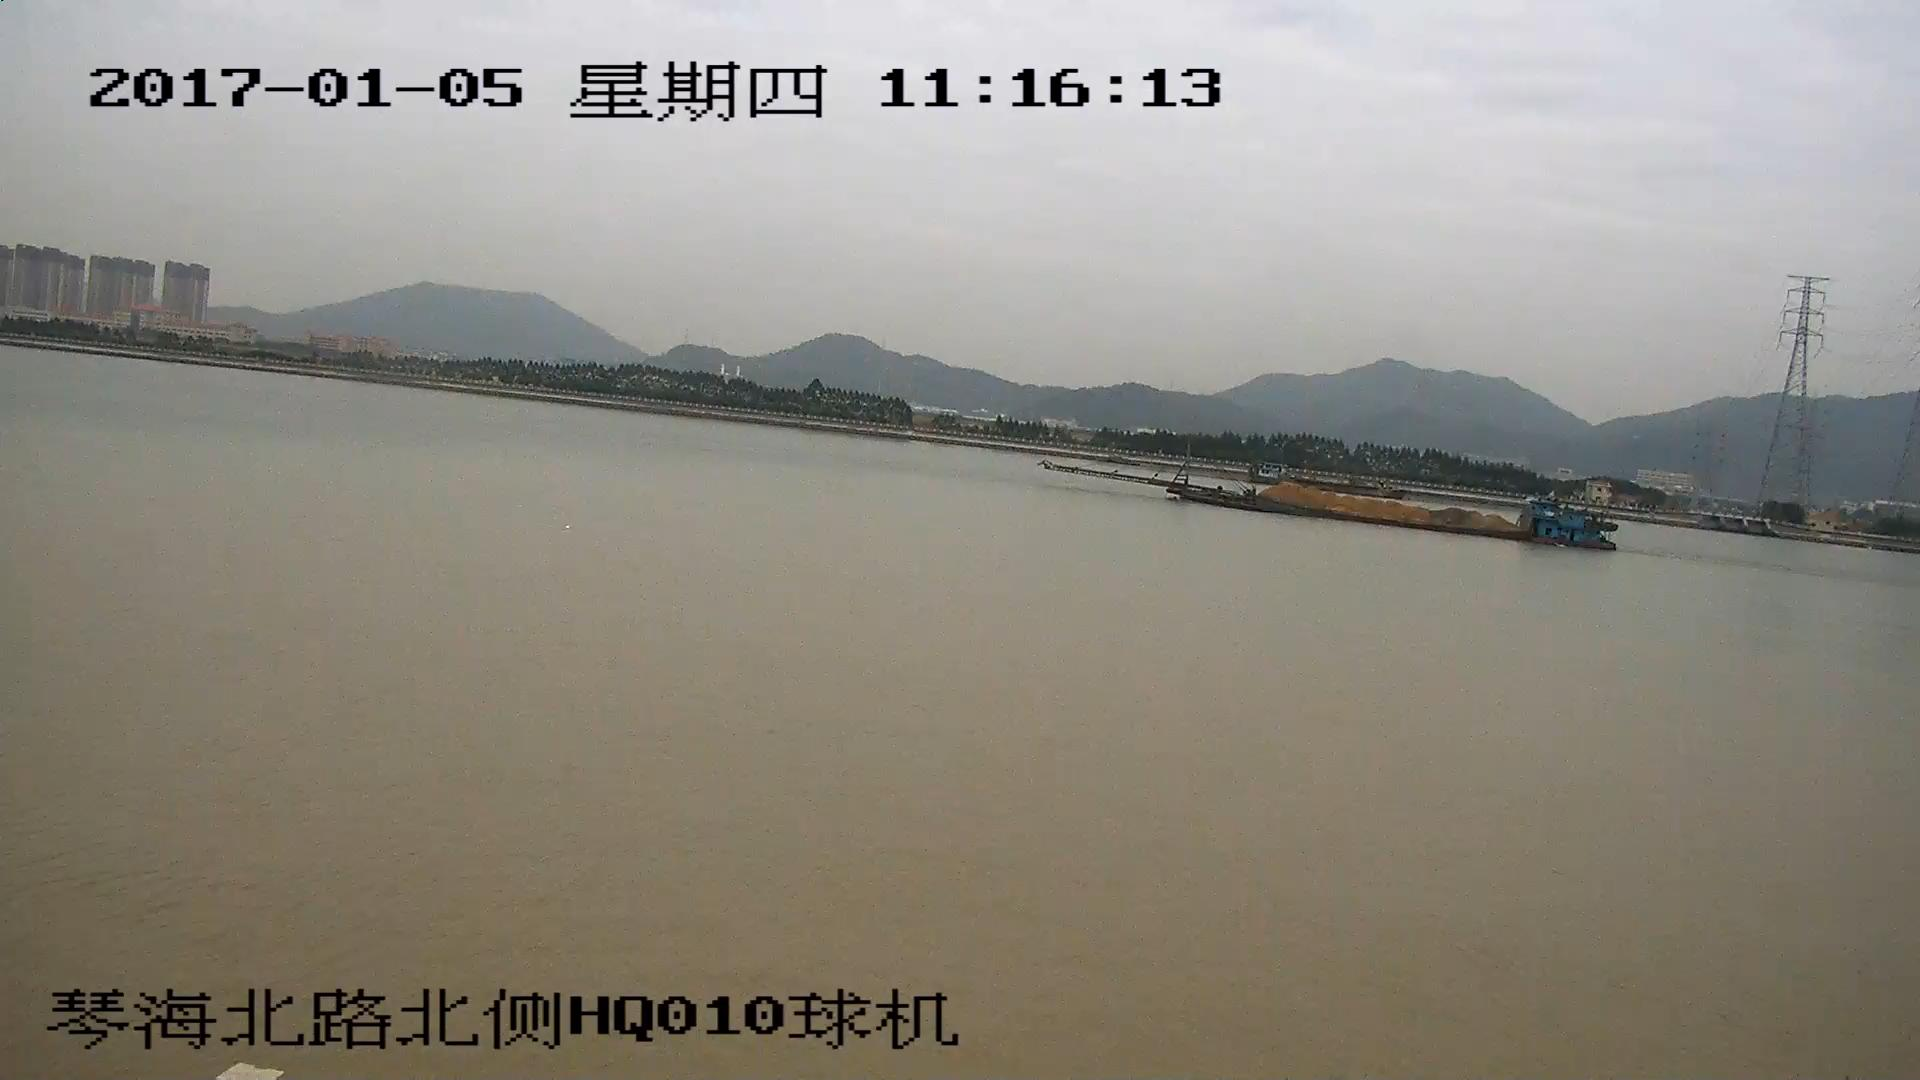ore carrier: (1040, 443, 1604, 538)
